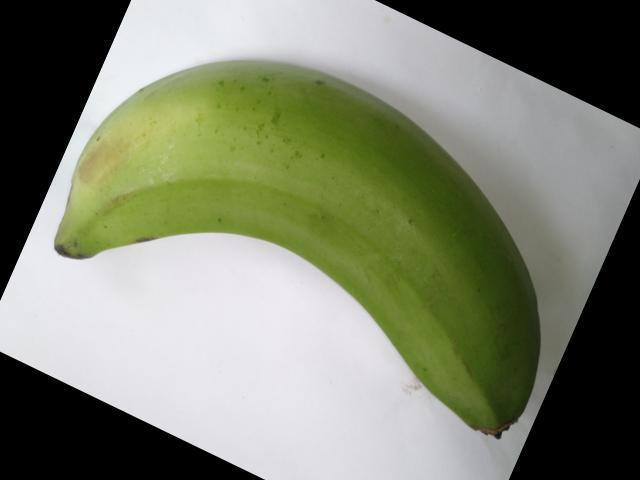freshunripe: (41, 43, 555, 455)
